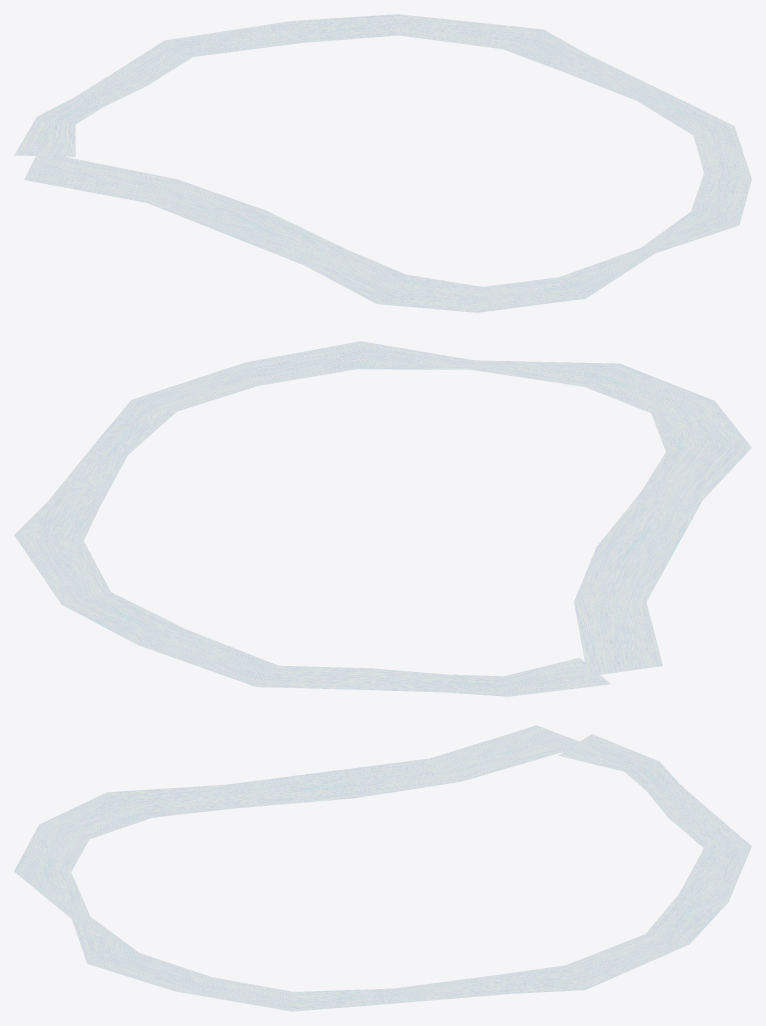
File: heliu2_1_fasheqi.FBX
3 views of the same model, one above another, from view 1: azimuth 30°, elevation 25°; view 2: azimuth 150°, elevation 25°; view 3: azimuth 270°, elevation 25° (orthographic). The views are drawn at different scales.
Visible parts, largest first — view 1: Line001; view 2: Line001; view 3: Line001.
Part boxes in pixels (bbox=[...]): Line001: bbox=[14, 14, 751, 312]; Line001: bbox=[14, 341, 751, 696]; Line001: bbox=[14, 725, 751, 1011].
Bounding box in the file's own units: 22.09 × 6.82e-15 × 24.06.
Materials: 1 (1 with a texture image).
